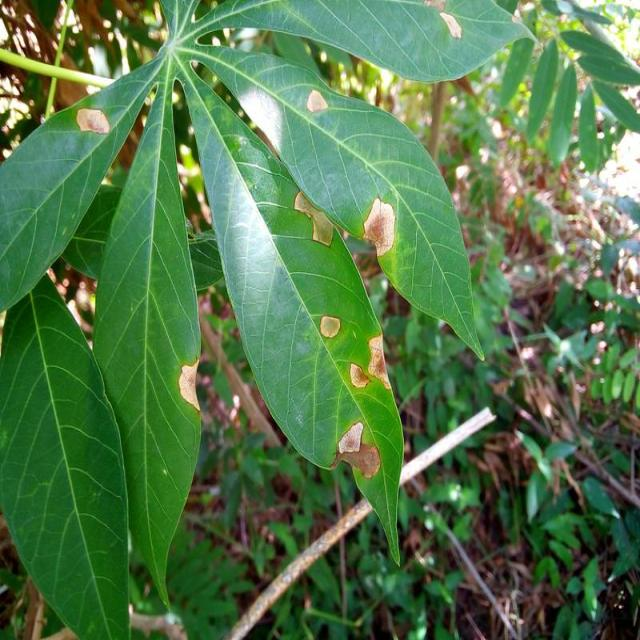cassava leaf: (0, 0, 535, 635), (173, 49, 404, 565), (90, 54, 202, 612), (0, 270, 130, 638), (187, 0, 538, 83)
